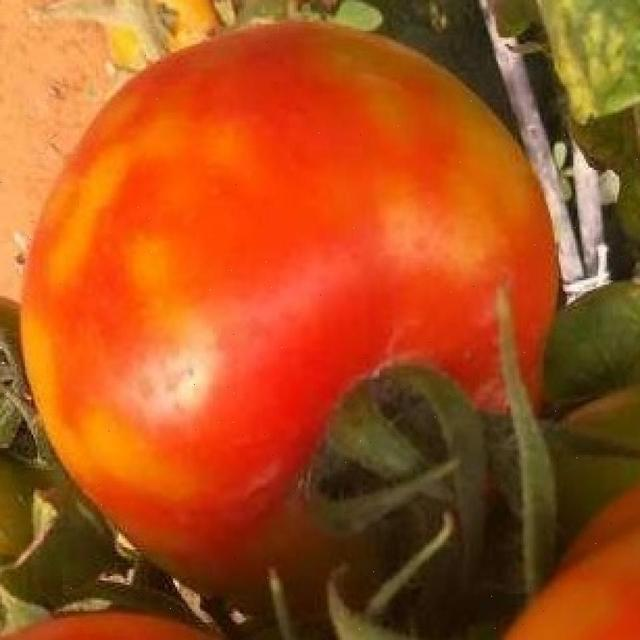Spotted wilt Virus Fruit: (12, 14, 373, 411)
